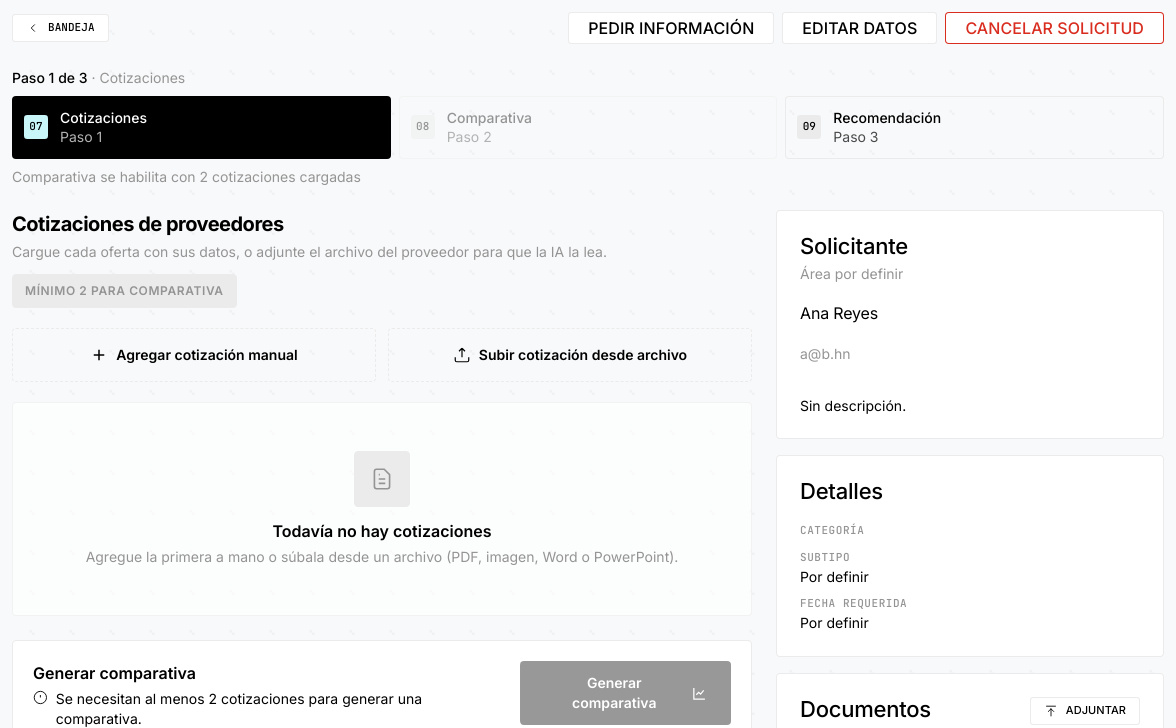
Test: DetalleSolicitud · pasos › P2-7 · los pasos tienen nombre plano, número de apoyo y posición explícita
The width and height of the screenshot is (1176, 728).
expect the button "07 Cotizaciones Paso 1" is shown: met, box [12,96,391,159]
expect the text "Paso 1 de 3" is shown: met, box [12,69,88,86]
Click the button "09 Recomendación Paso 3": point(887, 117) [785,96,1164,159]
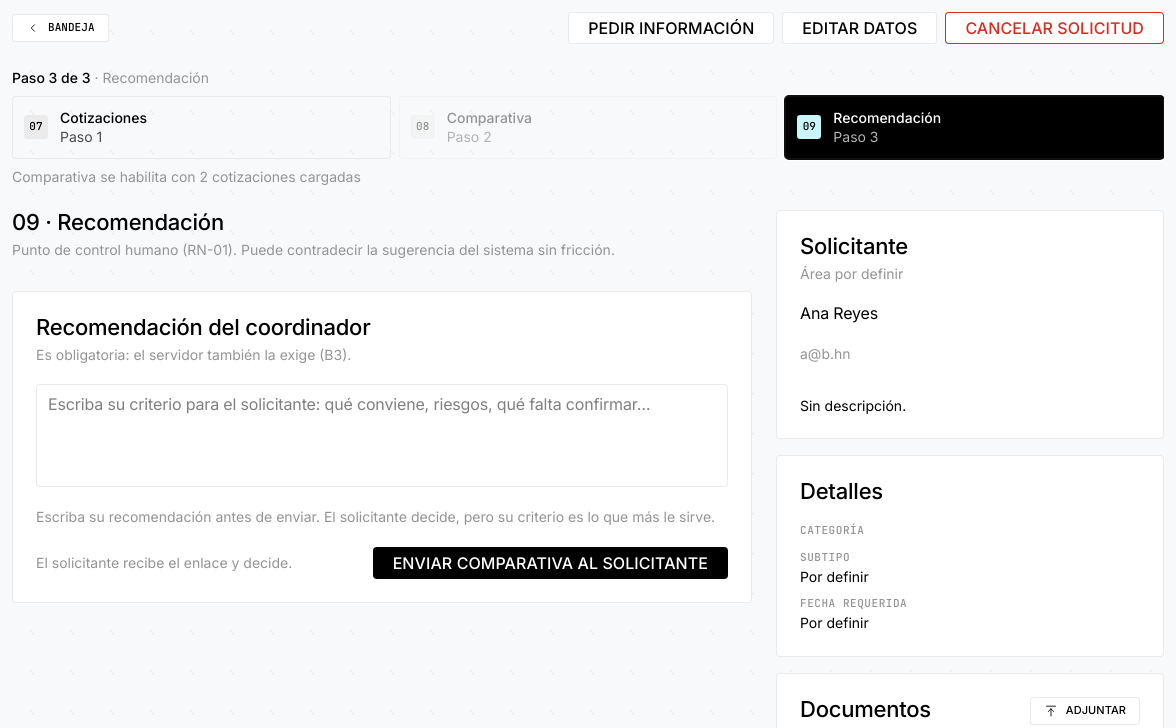
expect the text "Paso 3 de 3" is shown: met, box [12,69,90,86]
